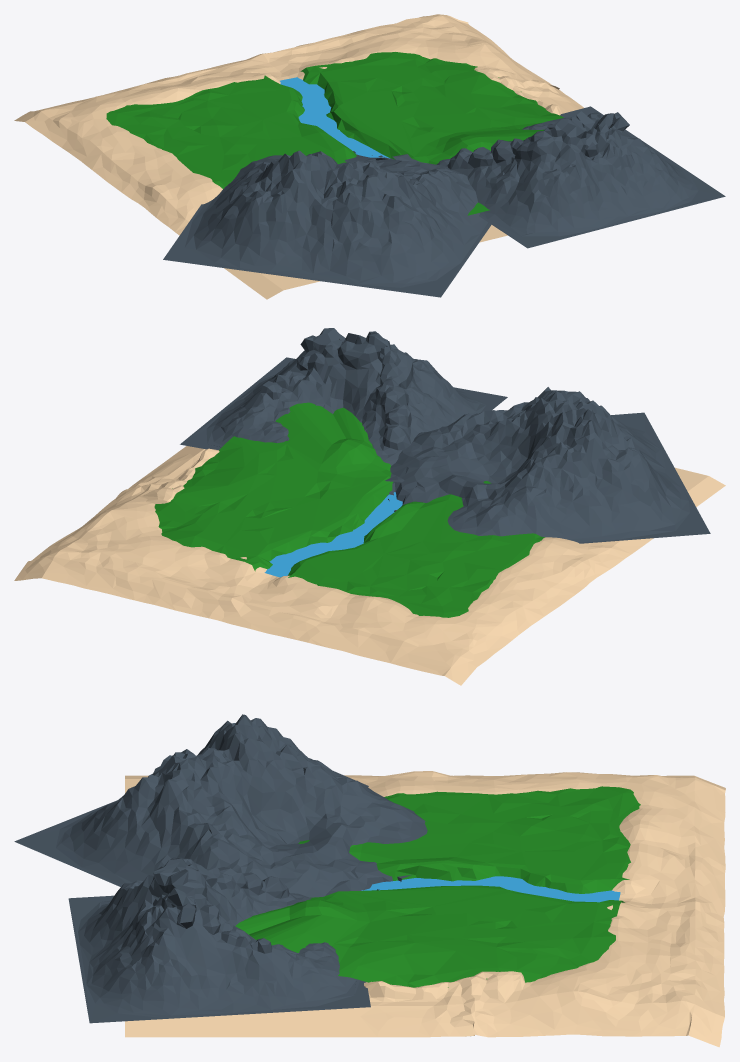
Rendered from Tutorial.fbx.
3 renders of one model, top to bottom at view 1: azimuth 30°, elevation 25°; view 2: azimuth 150°, elevation 25°; view 3: azimuth 270°, elevation 25°, orthographic. The views are drawn at different scales.
Parts seen in each view (by area): view 1: Landscape, Plane, beach, Landscape.001, river; view 2: beach, Plane, Landscape, Landscape.001, river; view 3: beach, Plane, Landscape, Landscape.001, river.
Part boxes in pixels (left/top/right/bottom): Landscape: left=163, top=150, right=491, bottom=297; Plane: left=106, top=52, right=563, bottom=215; beach: left=14, top=14, right=583, bottom=299; Landscape.001: left=392, top=106, right=725, bottom=248; river: left=280, top=77, right=389, bottom=158; beach: left=14, top=446, right=725, bottom=685; Plane: left=154, top=402, right=544, bottom=617; Landscape: left=387, top=387, right=710, bottom=543; Landscape.001: left=180, top=328, right=507, bottom=482; river: left=264, top=492, right=402, bottom=577; beach: left=125, top=771, right=725, bottom=1047; Plane: left=235, top=786, right=640, bottom=987; Landscape: left=14, top=714, right=427, bottom=897; Landscape.001: left=68, top=857, right=370, bottom=1023; river: left=361, top=876, right=620, bottom=902.
Bounding box in the file's own units: 37386 × 7985 × 40160.
